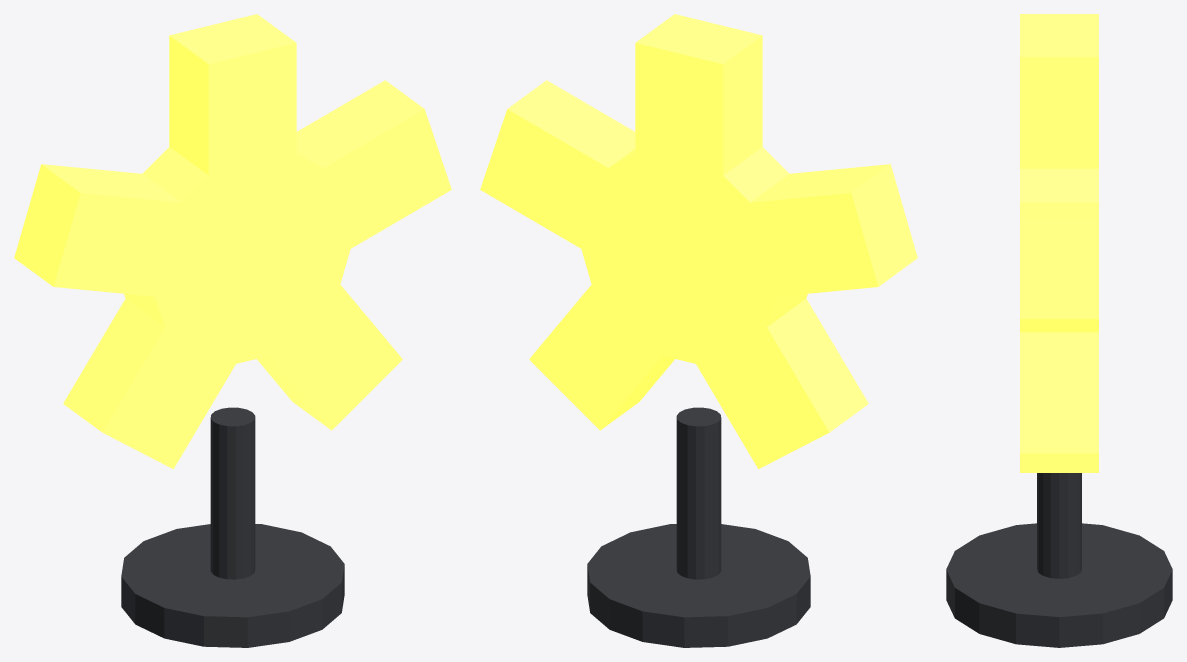
Rendered from star-lod0.glb.
3 views of the same model, side by side, from view 1: azimuth 30°, elevation 25°; view 2: azimuth 150°, elevation 25°; view 3: azimuth 270°, elevation 25° (orthographic).
Parts seen in each view (by area): view 1: star; view 2: star; view 3: star.
Part boxes in pixels (x1,y1,x2,y2): star: (14,14,451,647); star: (480,14,917,647); star: (946,14,1172,647).
Size of the model in its own units: 0.4082 by 0.55 by 0.2.
